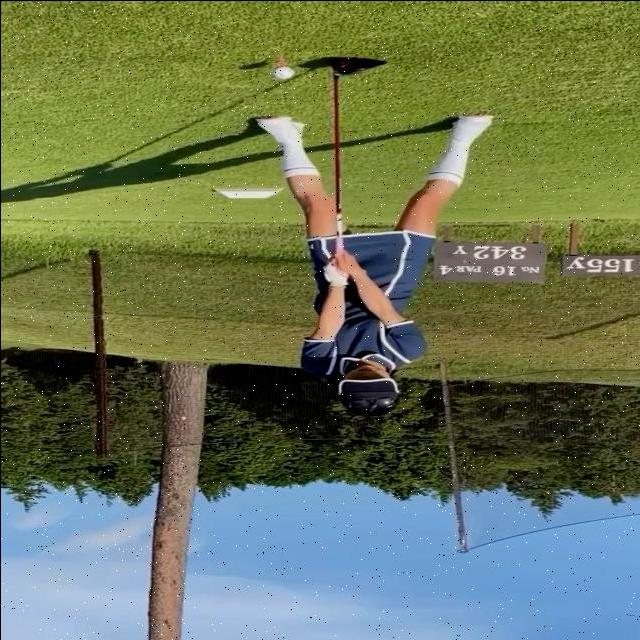golf ball: (271, 66, 294, 78)
golf club-handle: (323, 53, 391, 259)
golf club-head: (325, 55, 385, 76)
